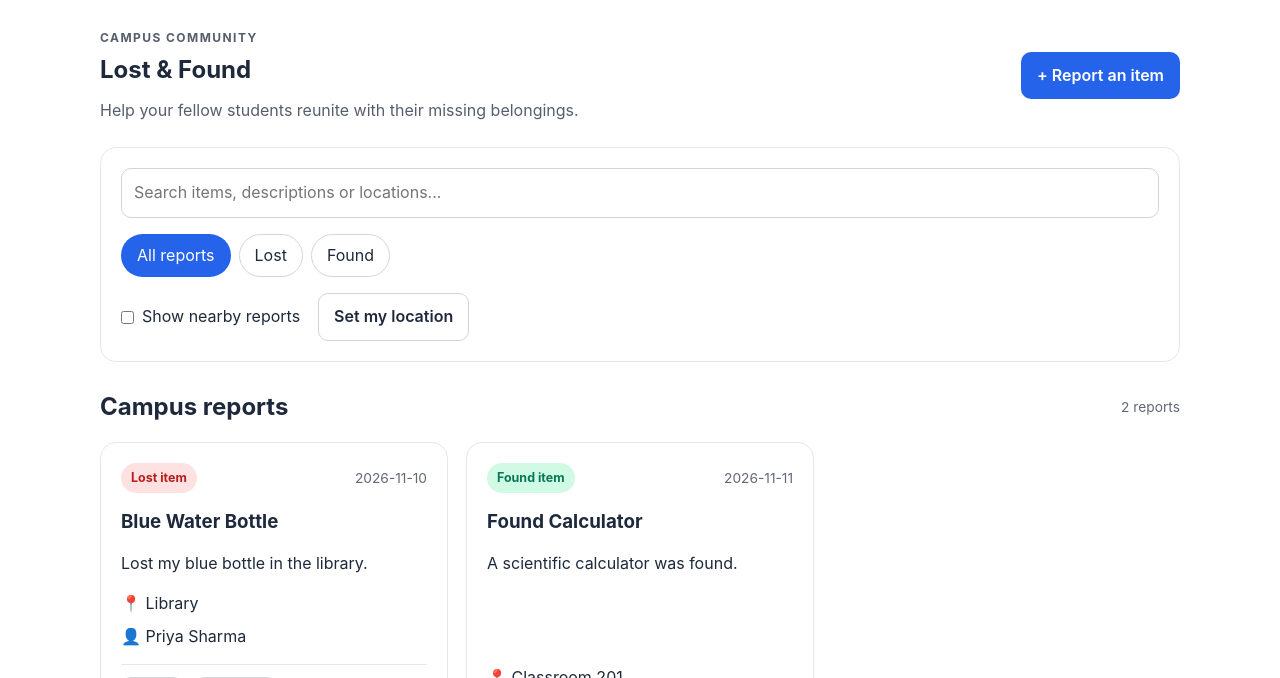
Test: LostFound Page › rejects incomplete report details
Click the button "+ Report an item" at coordinates (1100, 76), box [1021,52,1180,99]
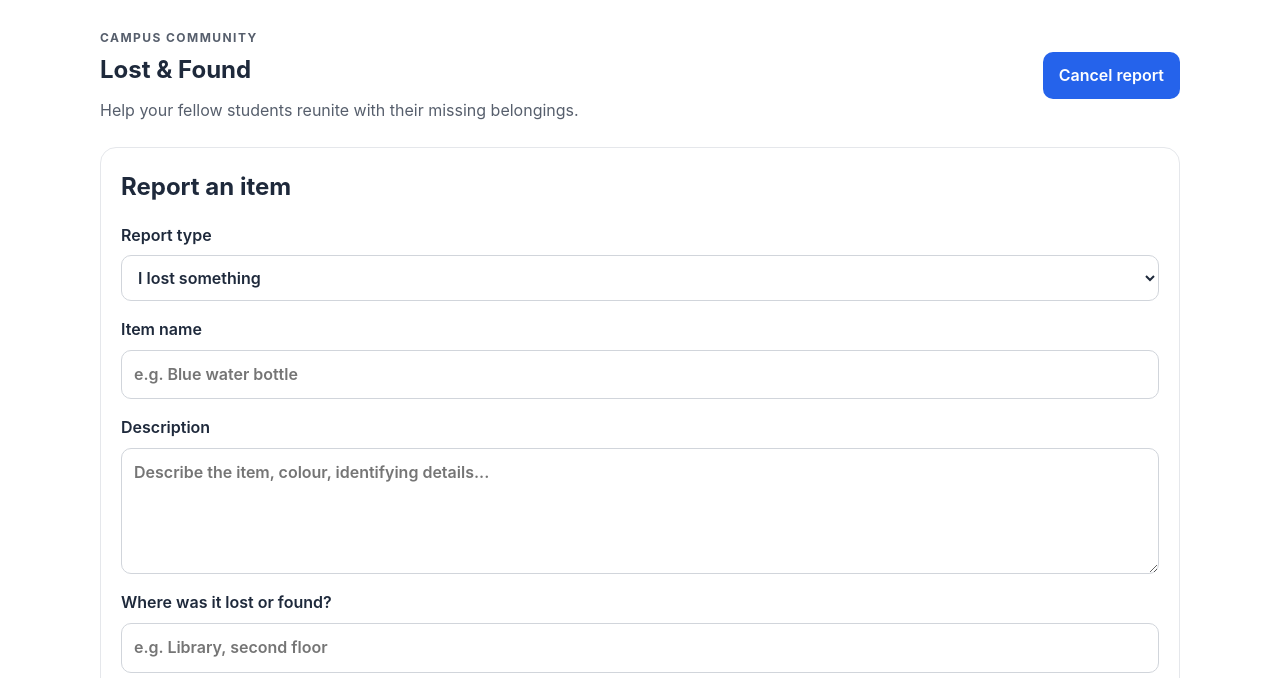
Type "Bottle" into the field labelled "Item name" at coordinates (640, 375), box [121,350,1159,399]
(page scrolled)
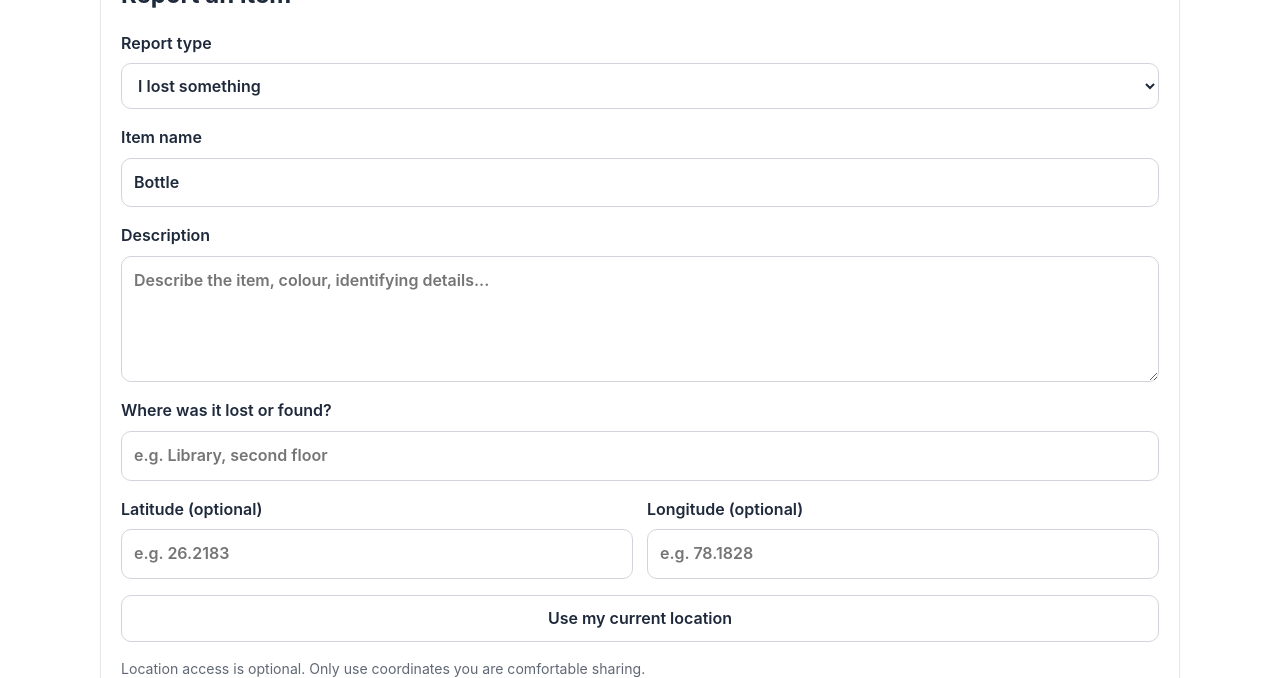
Submit the form "Report an item"
(page scrolled)
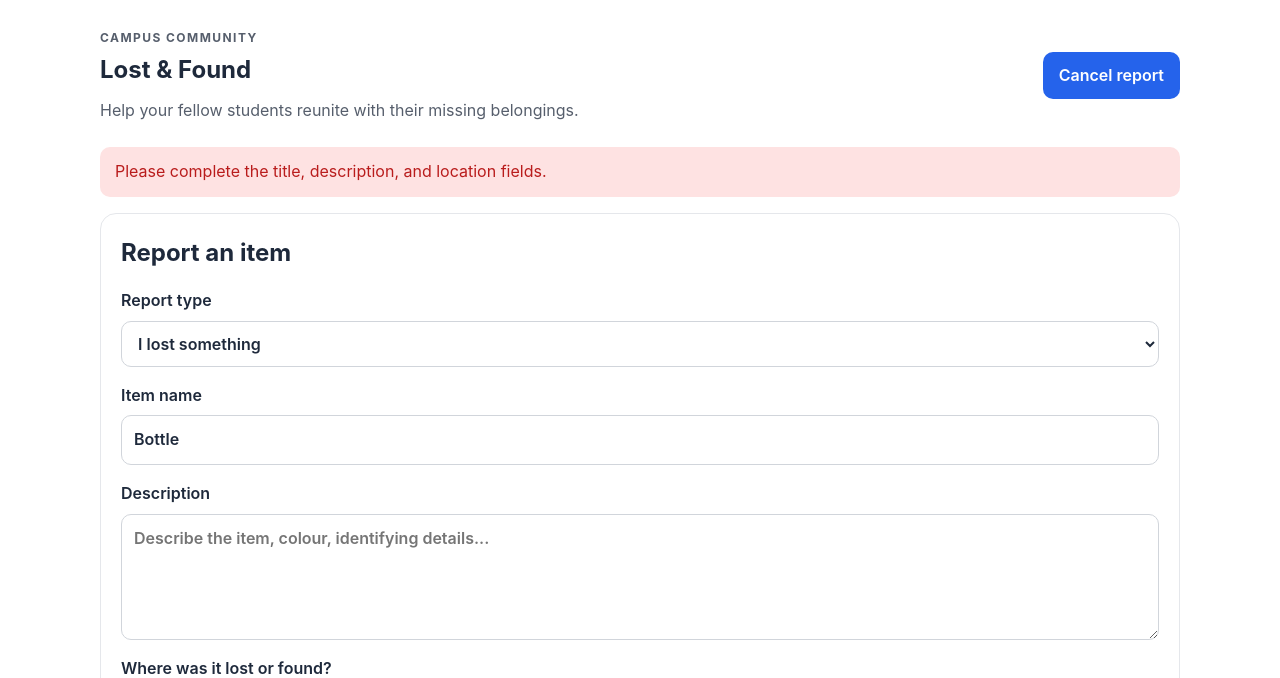
Expected: the message reads "Please complete the title, description, and location fields.", [115,161,546,181]
